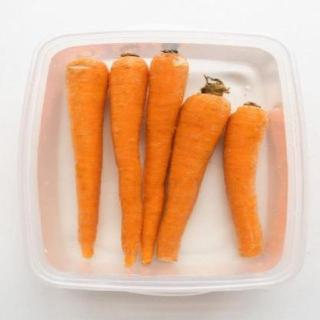carrot: (156, 89, 234, 268), (136, 48, 194, 272), (62, 51, 104, 265), (224, 88, 266, 268), (112, 50, 142, 268)
